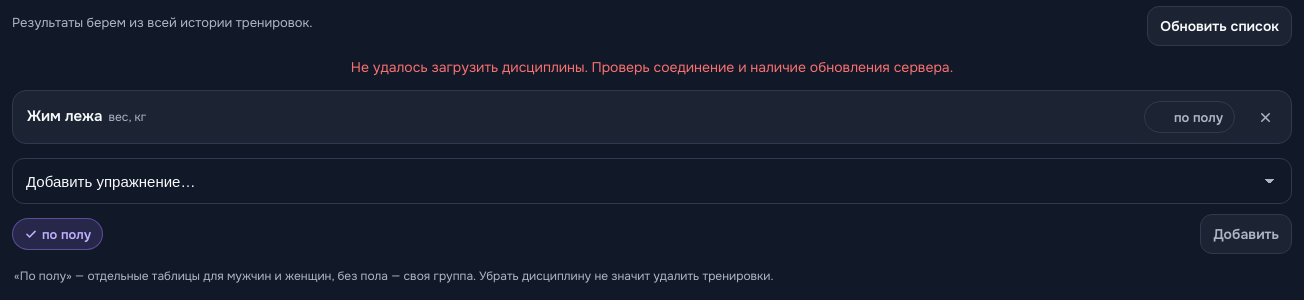
Test case: AdminDisciplines › ошибки: загрузка, сохранение, ручное обновление
Check: the message shows "Не удалось загрузить дисциплины", box [351,58,953,76]
What coordinates should you click on to do the following:
click the button named "Убрать из рейтинга: Жим лежа"
I would click on:
 (1265, 117)
Its box is [1243,95,1287,139].
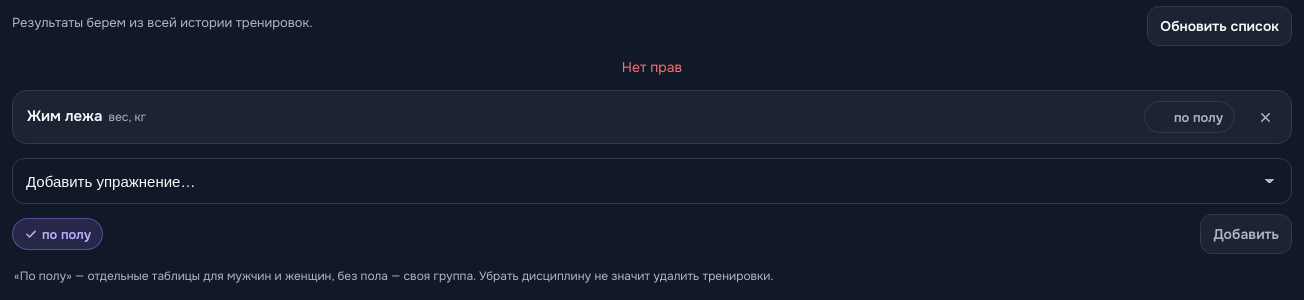
Check: the message reads "Нет прав", box [622,58,682,76]
What coordinates should you click on to do the following:
click the button "Обновить список"
I would click on:
 (1220, 26)
Its box is [1147,6,1292,46].
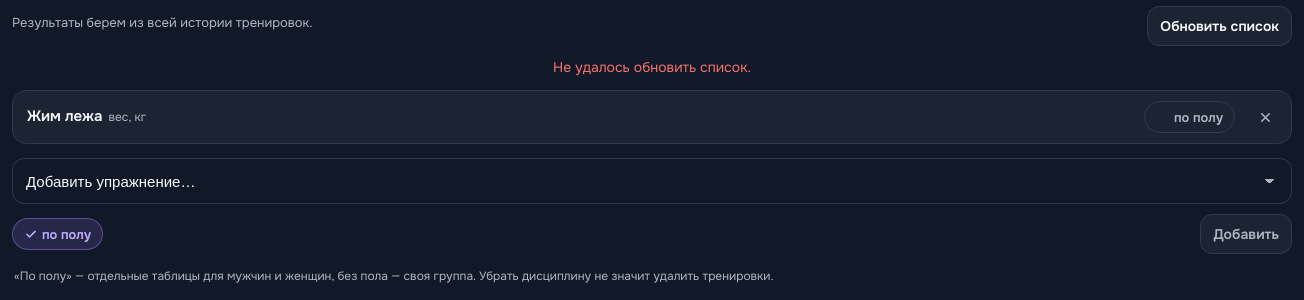
Check: the message reads "Не удалось обновить список.", box [553,58,751,76]
